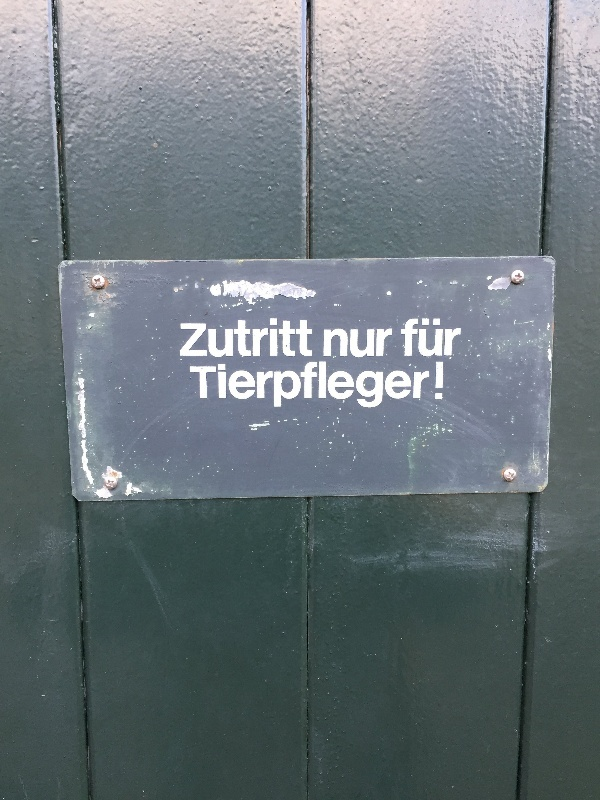text: (193, 361, 208, 409), (209, 361, 224, 409), (225, 361, 240, 409), (241, 361, 256, 409), (257, 361, 272, 409), (273, 361, 288, 409), (289, 361, 304, 409), (305, 361, 320, 409), (321, 361, 336, 409), (337, 361, 352, 409), (353, 361, 368, 409), (369, 361, 384, 409), (385, 361, 400, 409), (401, 361, 416, 409), (417, 361, 432, 409), (417, 318, 432, 358), (433, 318, 448, 358), (193, 319, 208, 358), (209, 319, 224, 358), (225, 319, 240, 358), (241, 319, 256, 358), (257, 319, 272, 358), (273, 319, 288, 358), (289, 319, 304, 358), (402, 318, 416, 358), (433, 361, 444, 409), (449, 318, 462, 358), (181, 319, 192, 358), (337, 330, 352, 358), (353, 330, 368, 358), (369, 330, 384, 358), (324, 330, 336, 358), (305, 319, 313, 358), (385, 330, 393, 358), (190, 361, 192, 409)
